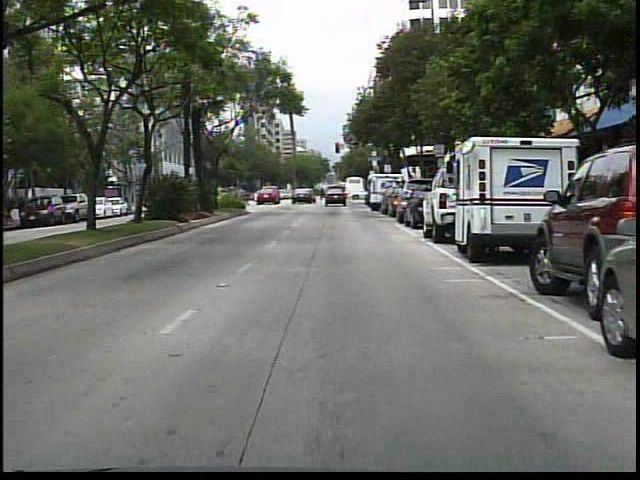person: (294, 182, 310, 206), (319, 183, 327, 203)
